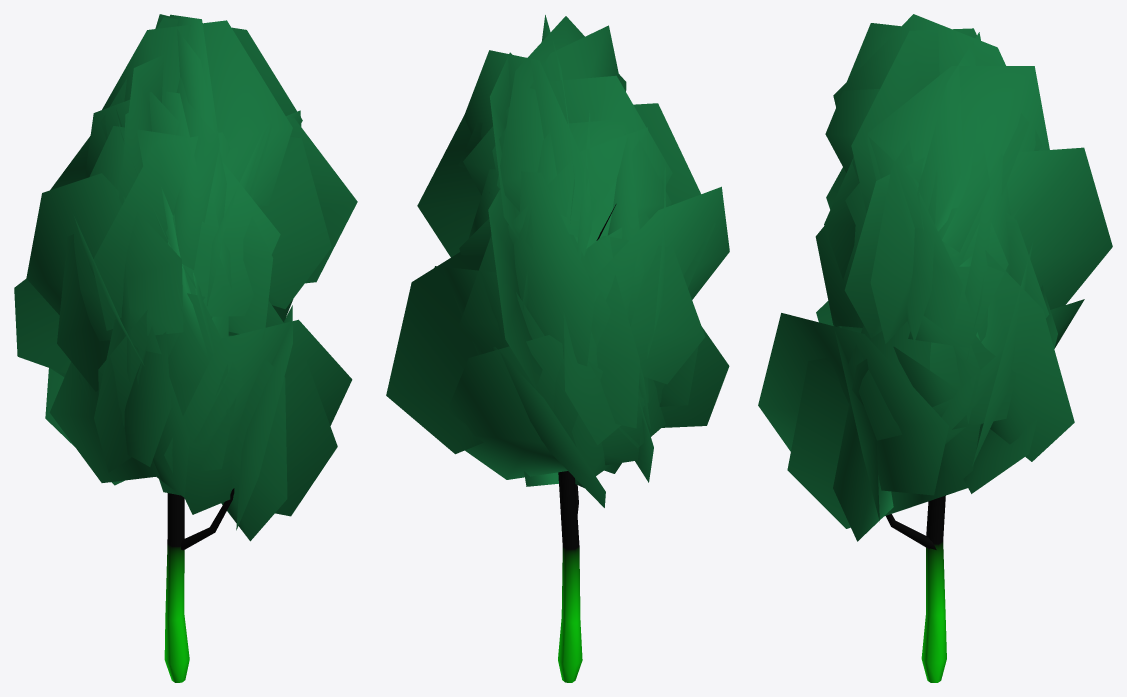
File: SM_BirchSapling1.fbx
3 renders of one model, left to right at view 1: azimuth 30°, elevation 25°; view 2: azimuth 150°, elevation 25°; view 3: azimuth 270°, elevation 25°, orthographic. The views are drawn at different scales.
Parts seen in each view (by area): view 1: SM_BirchSapling1_LOD0; view 2: SM_BirchSapling1_LOD0; view 3: SM_BirchSapling1_LOD0.
Part boxes in pixels (box(x1,y1,x2,y2)): SM_BirchSapling1_LOD0: box(14, 14, 357, 682); SM_BirchSapling1_LOD0: box(386, 15, 729, 682); SM_BirchSapling1_LOD0: box(758, 14, 1112, 682).
Size of what is drawn, in the model's own units: 355 by 812 by 388.
